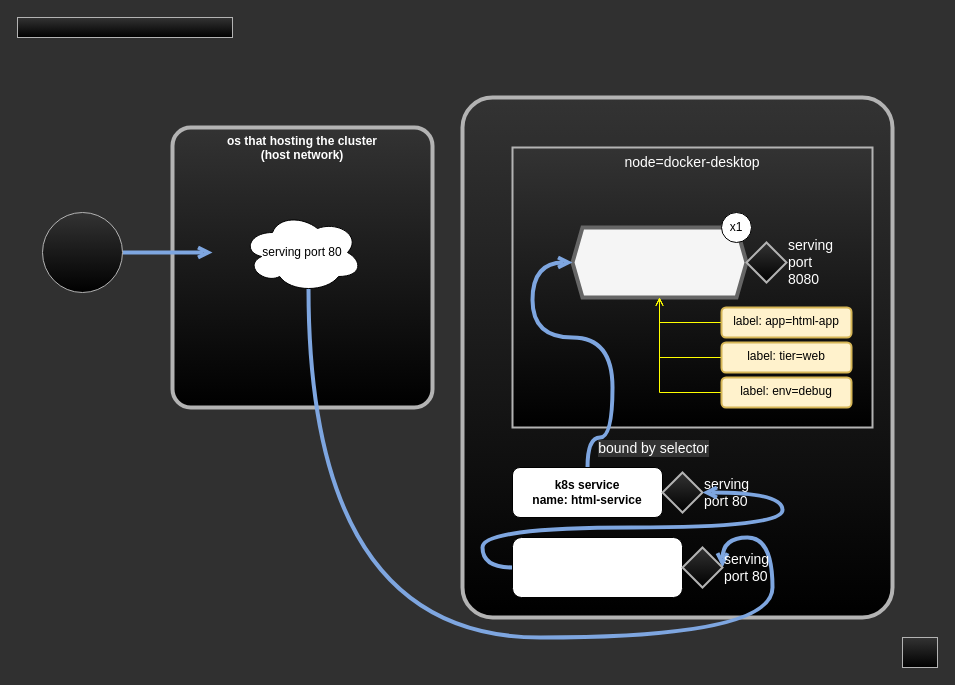
The diagram is 955 pixels wide and 685 high, and some of its shapes have lost their labels. The shapes that lost their labels are listed below. From the top down, each one's box as (x1, y1, x2, y2) in pixels, then its label:
(16, 16, 232, 38): static-web-wtih-ingress-plan
(42, 212, 122, 292): client (http)
(570, 225, 748, 299): pod name: static-web
(460, 95, 894, 619): k8s cluster (internal network)
(512, 536, 682, 598): ingress (backed by ingress controller)
